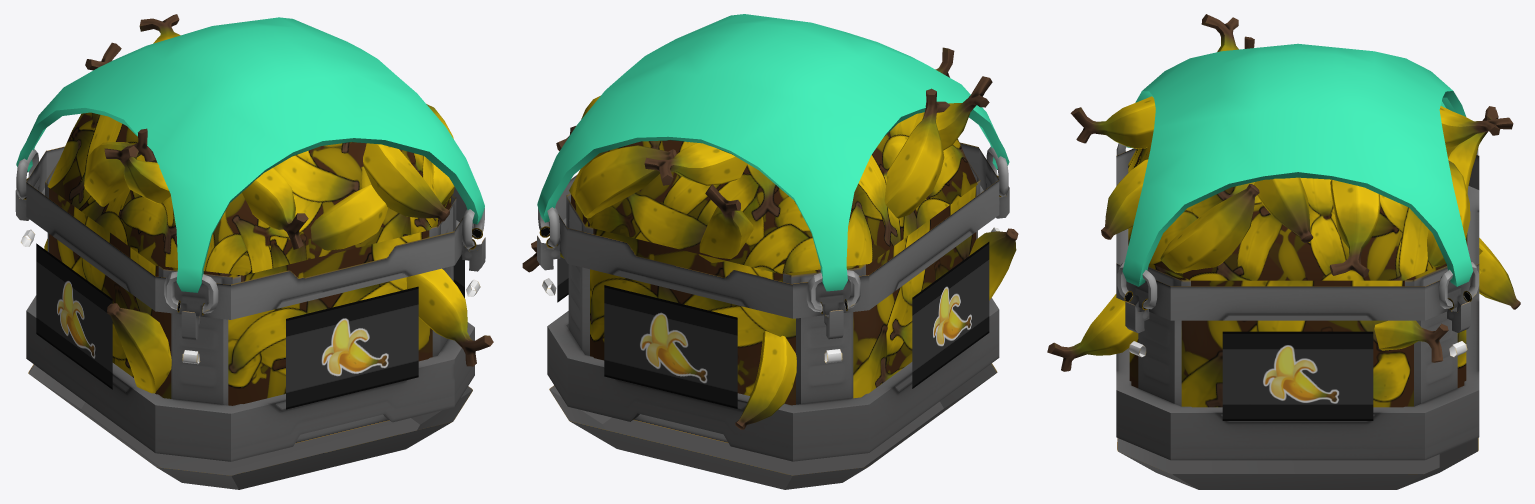
Rendered from obj_containers_bananacrate.fbx.
The picture shows the model from 3 angles, left to right: view 1: azimuth 30°, elevation 25°; view 2: azimuth 150°, elevation 25°; view 3: azimuth 270°, elevation 25°; orthographic projection. The views are drawn at different scales.
Visible parts, largest first — view 1: obj_containers_bananacrate; view 2: obj_containers_bananacrate; view 3: obj_containers_bananacrate.
Boxes of the visible parts, x1,y1,x2,y2 form: obj_containers_bananacrate: (15, 14, 493, 489); obj_containers_bananacrate: (522, 14, 1018, 489); obj_containers_bananacrate: (1047, 14, 1520, 489).
Bounding box in the file's own units: 8.25 × 7.82 × 9.13.
